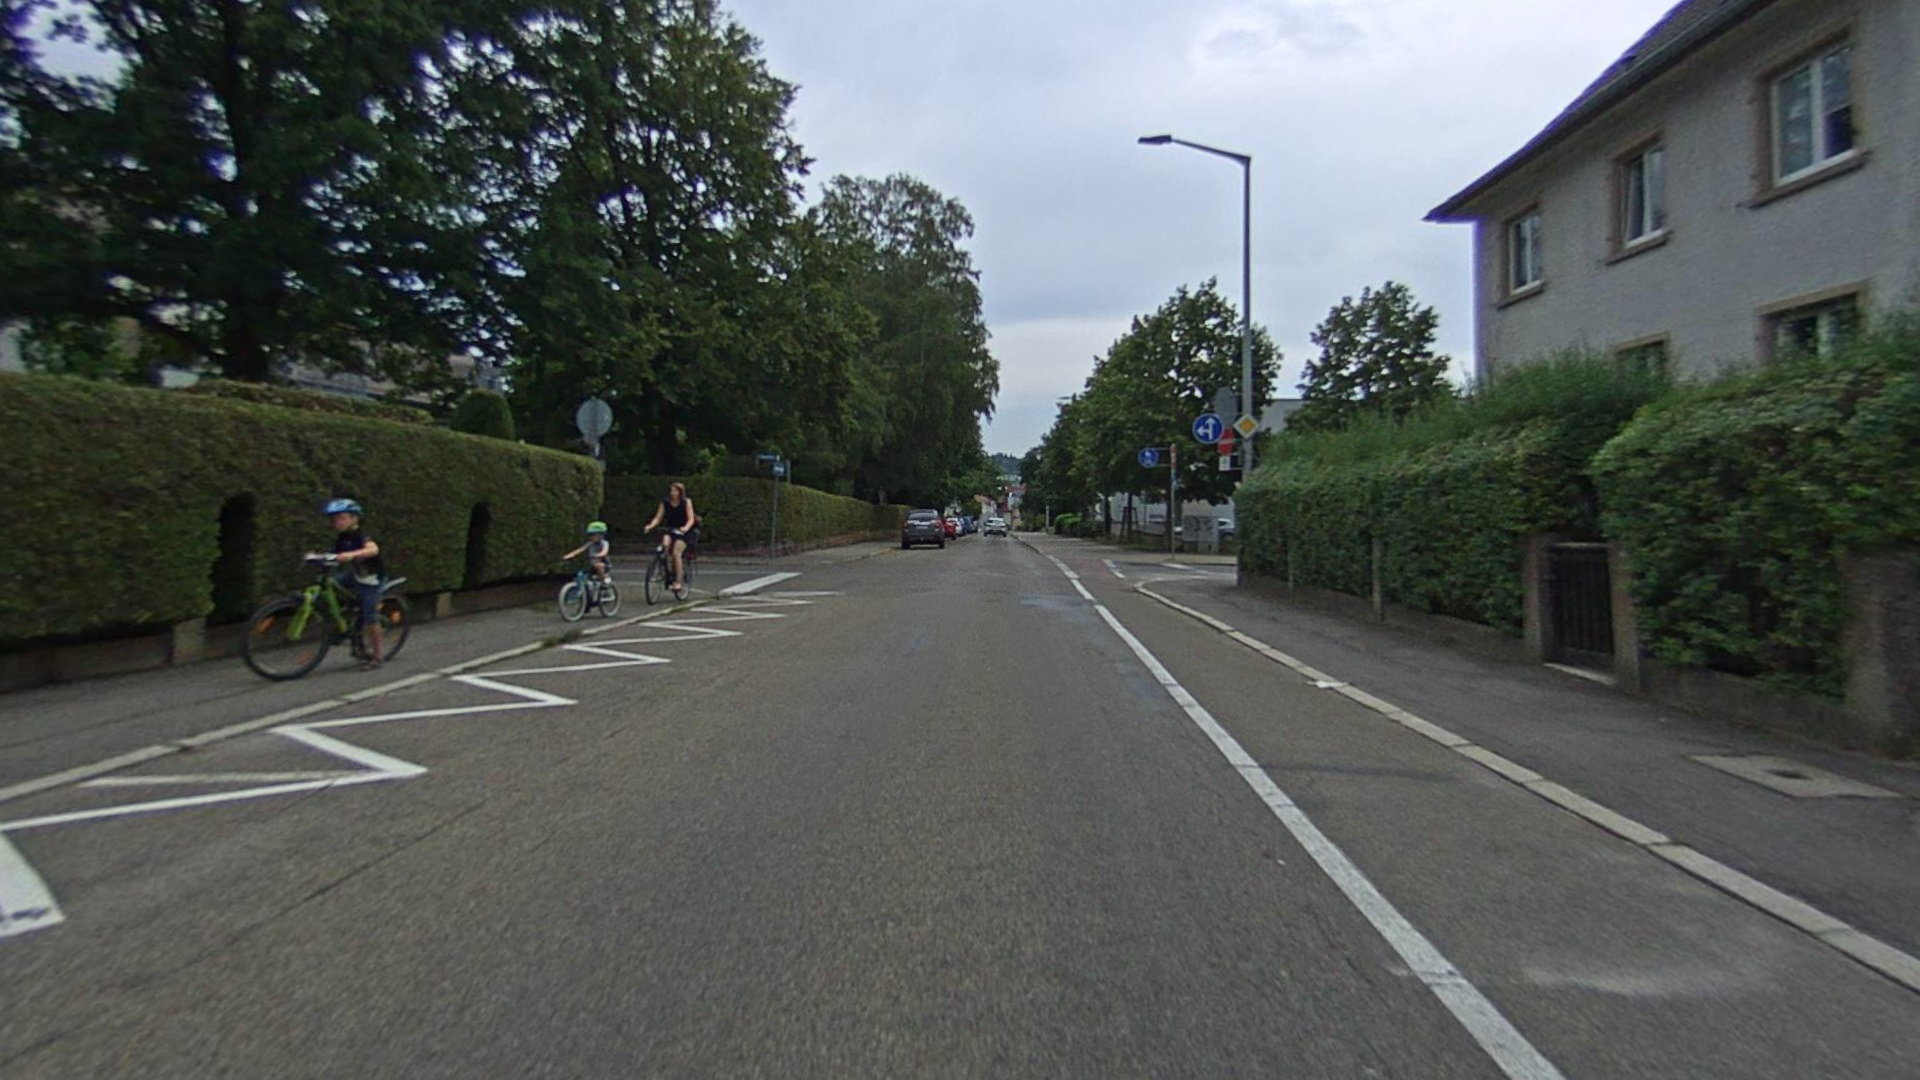bicycle: (239, 549, 413, 681), (641, 525, 699, 604), (554, 556, 621, 621)
person: (318, 496, 388, 673), (566, 520, 613, 612), (659, 482, 694, 593)
